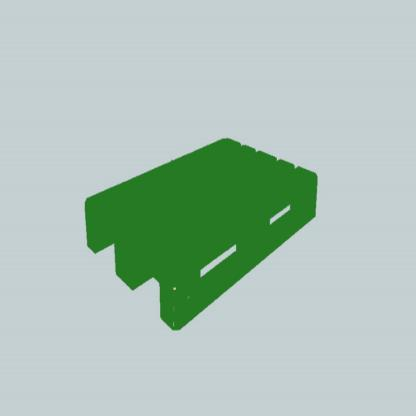BoxFace: (82, 131, 319, 339)
